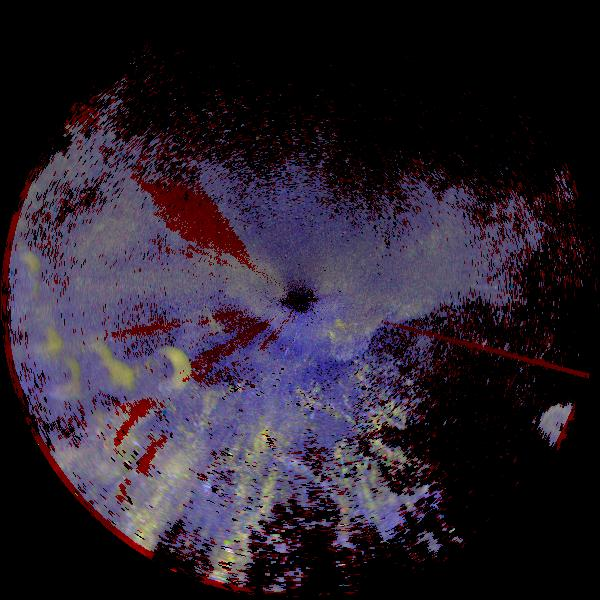roost: (108, 317, 216, 425), (23, 338, 104, 419), (12, 244, 54, 286)
